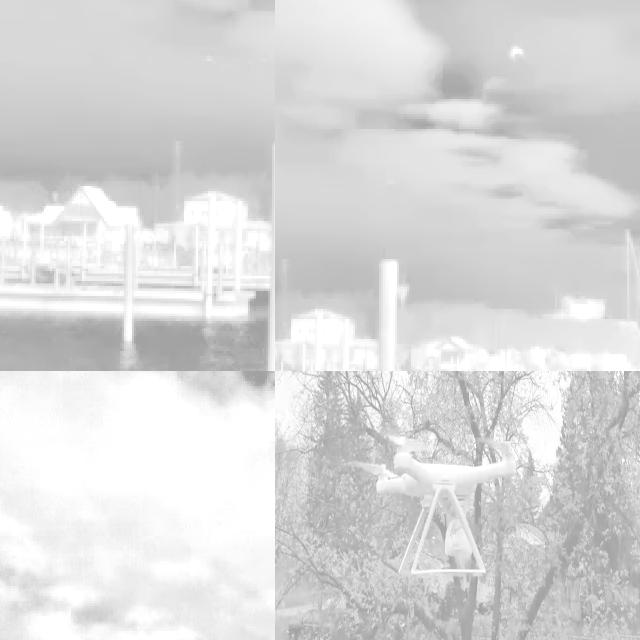0: (507, 42, 535, 72), (202, 51, 226, 79)
drone: (377, 434, 516, 592)
